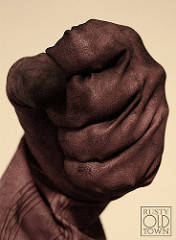fist: (20, 23, 158, 201)
